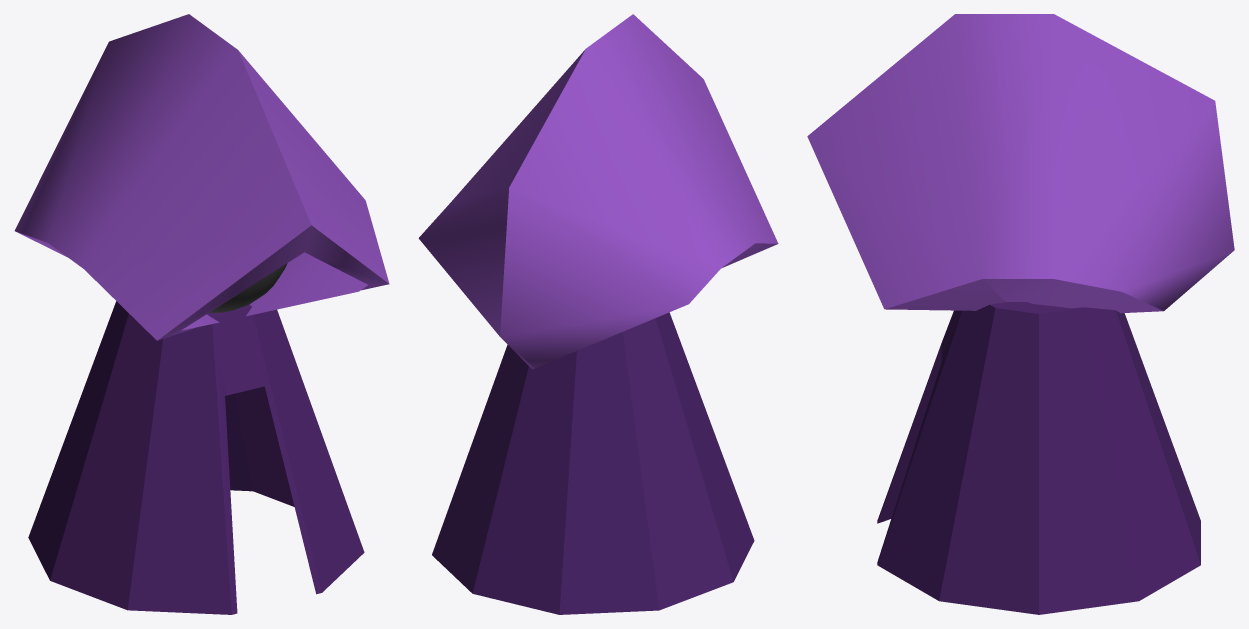
The model's file is player_cloak.obj.
3 renders of one model, left to right at view 1: azimuth 30°, elevation 25°; view 2: azimuth 150°, elevation 25°; view 3: azimuth 270°, elevation 25°, orthographic. The views are drawn at different scales.
Bounding box in the file's own units: 2.29 × 3.93 × 2.87.
1 material, 1 textured.
